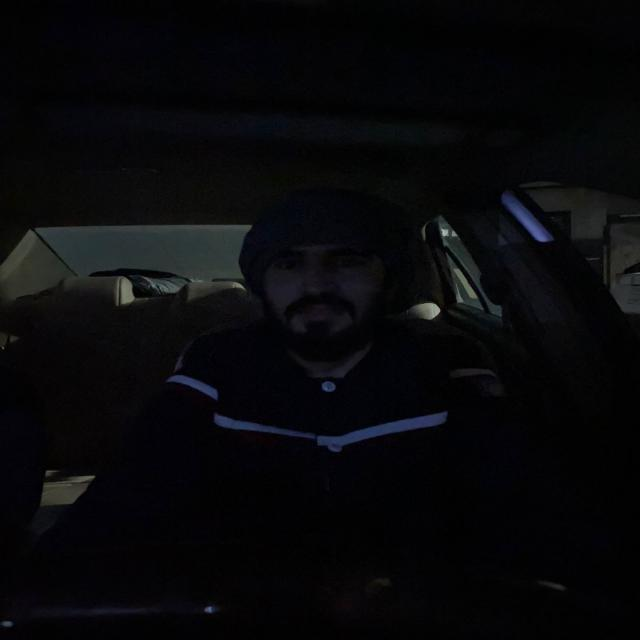person: (249, 227, 399, 362)
